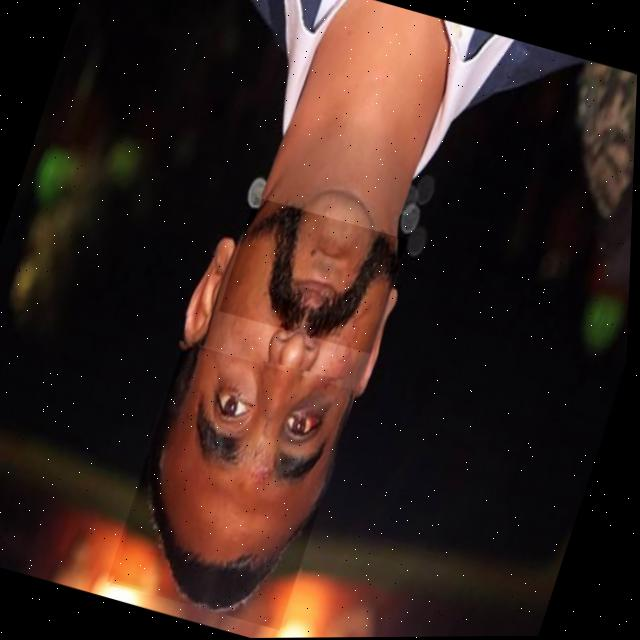beard: (245, 206, 398, 336)
hair: (148, 345, 338, 612)
